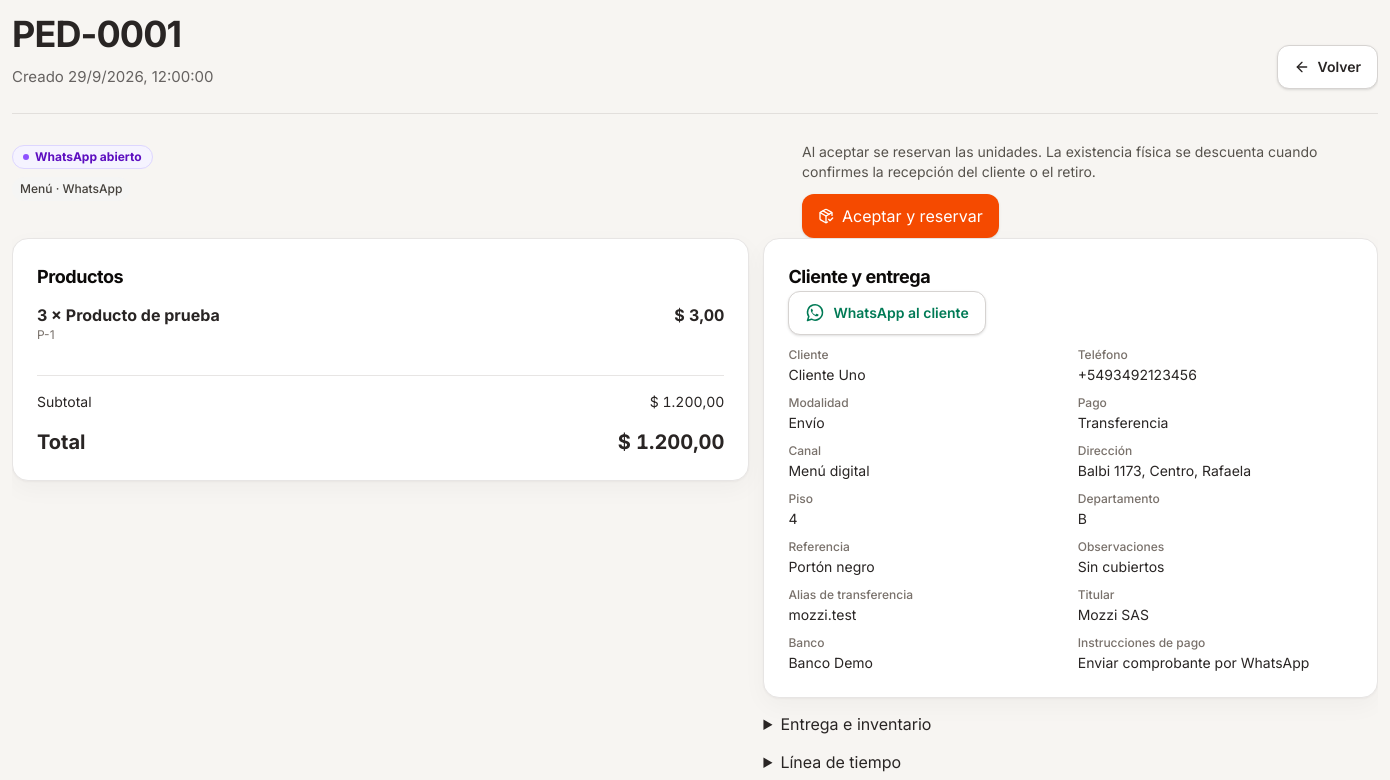
it: operational order details › lets restaurant_admin accept and reserve directly from the detail
Click the button "Aceptar y reservar" at coordinates (900, 216), box [802,194,999,238]
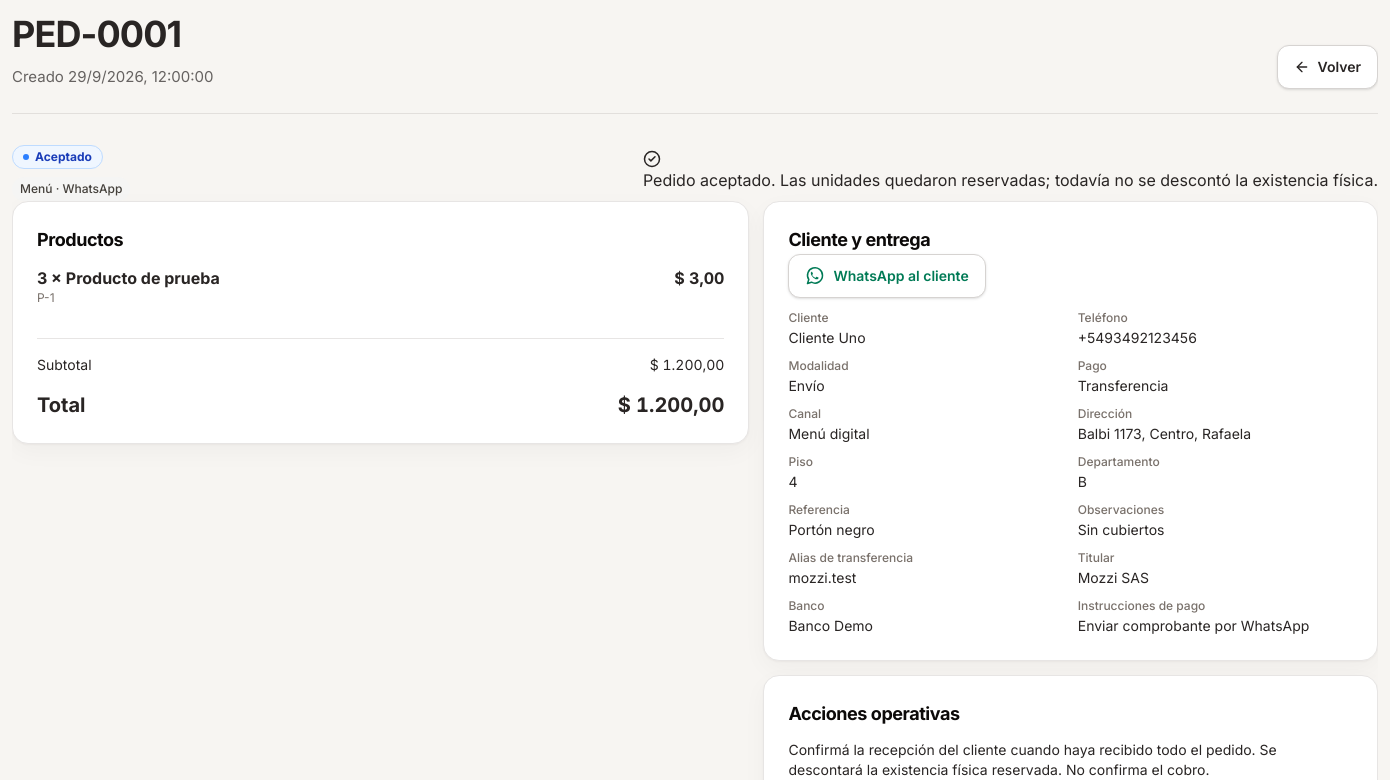
Check: the button "Aceptar y reservar" is gone
Check: the message shows "todavía no se descontó la existencia física", box [643,170,1378,190]
